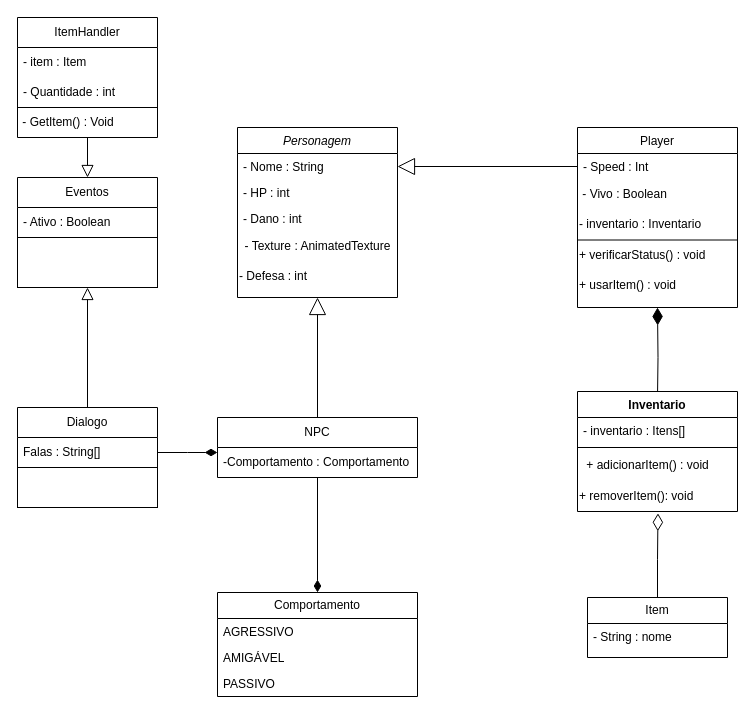
Image size: 755x717. Some labels were removed from this diagram. The centre of each missing label's shape, as x and y in pixels:
"+ AcionarDialogo() : void" goes at (x=87, y=487).
"- StartEvent() : Void - VerificarCondicao() : Void" goes at (x=87, y=262).
